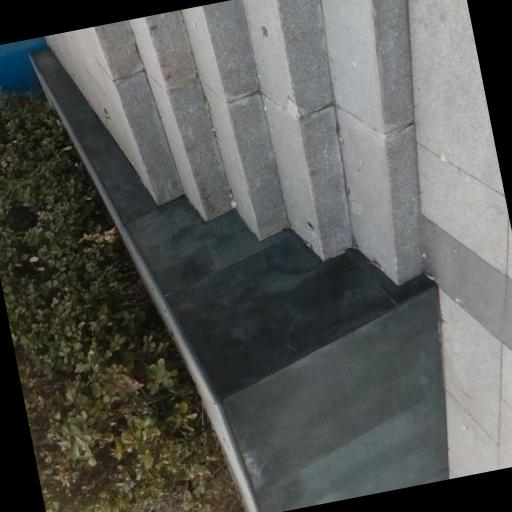stairs: (101, 0, 421, 282)
